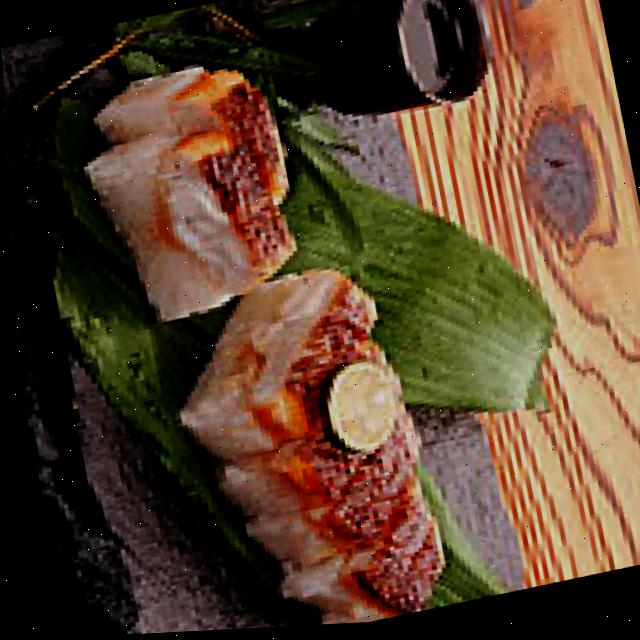寿司卷物: (77, 0, 445, 637)
